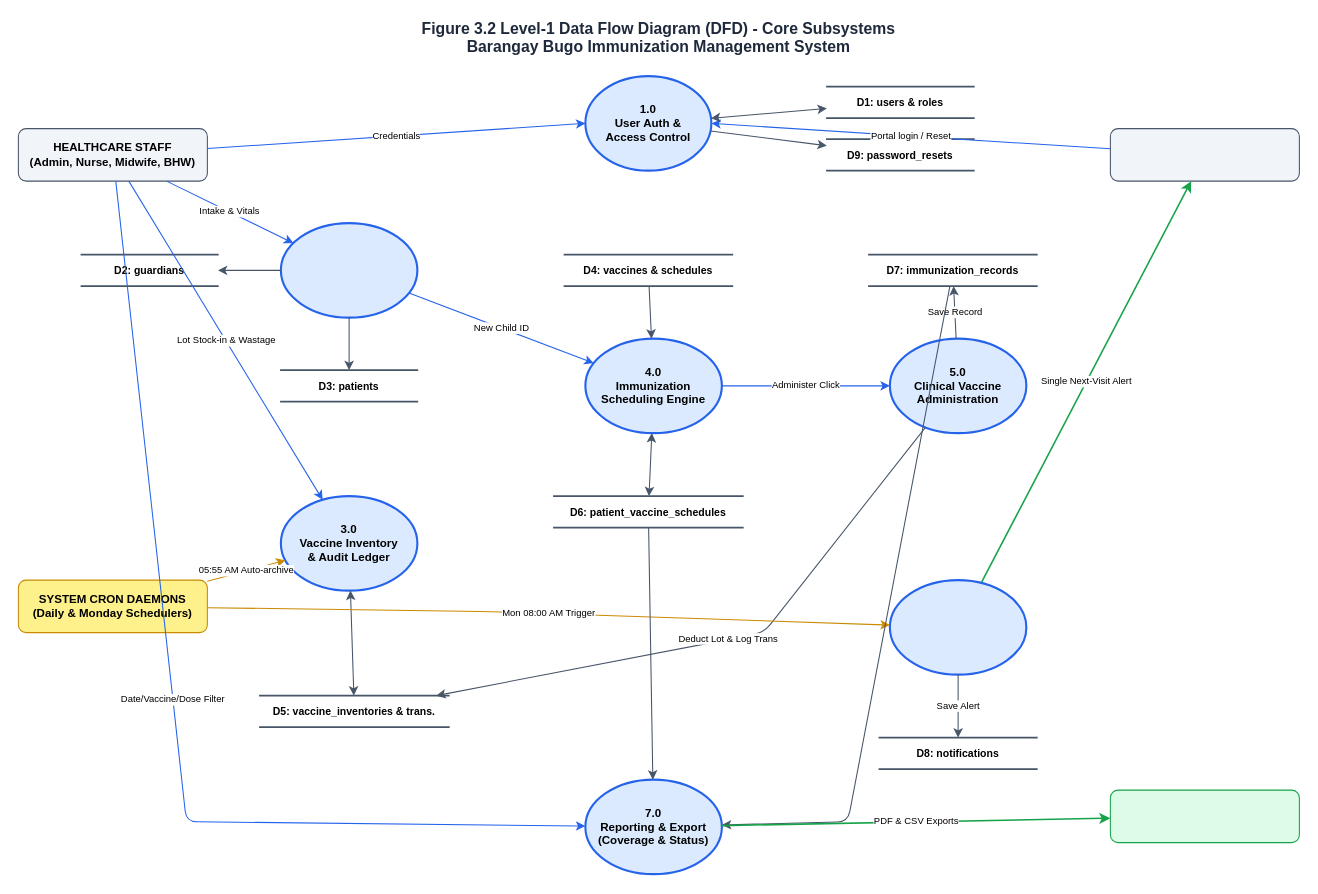
The diagram is 1318 pixels wide and 894 high, and some of its shapes have lost their labels. The centre of each missing label's shape, as x and y in pixels:
"2.0 Patient & Guardian Profiling & QR" goes at point (348, 270).
"6.0 Automated Reminders & Alerts Dispatch" goes at point (957, 627).
"DOH / HEALTH AUTHORITY (Coverage & Status Submissions)" goes at point (1204, 816).
"PARENT / GUARDIAN (Family Portal User)" goes at point (1204, 154).
